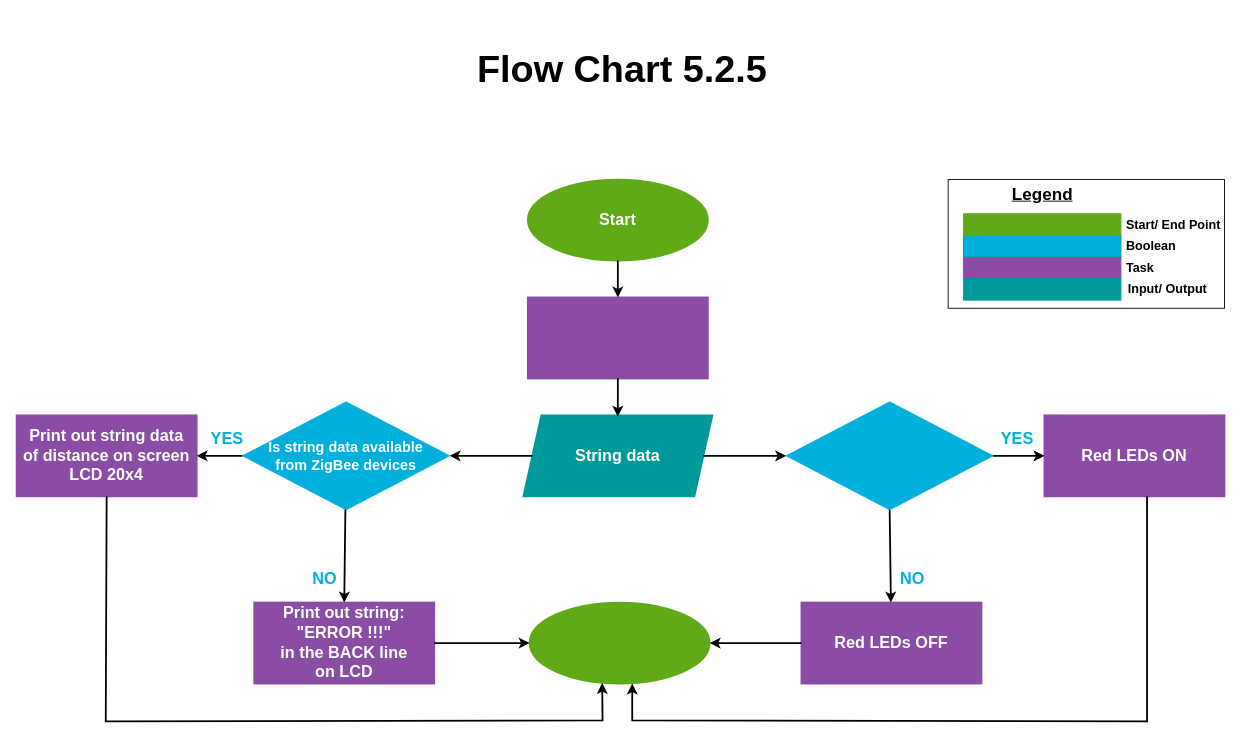
This 1240x744 diagram has some shape labels left out. Each missing label, with the centre of its shape:
End: the point at 619,642
Is the vehicle in blind spot: the point at 889,455
Receive string data from detecing MCU: the point at 617,337
